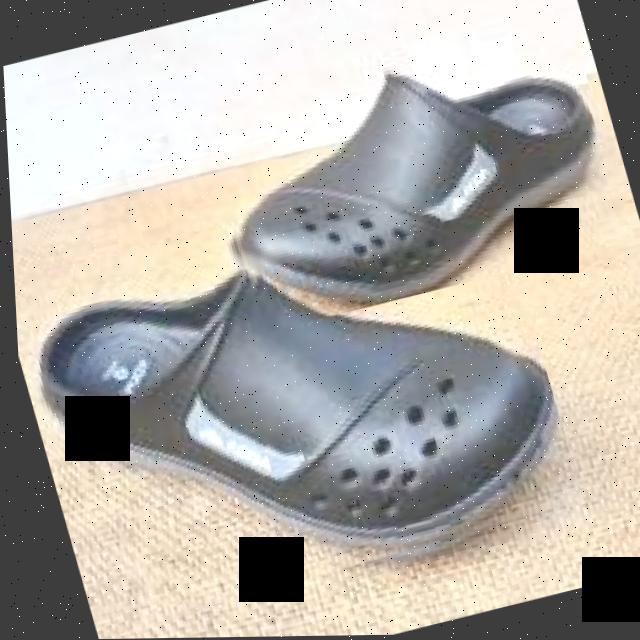shoe: (9, 202, 586, 638), (188, 20, 633, 336)
